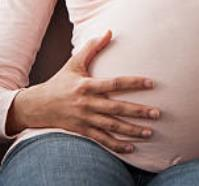down: (56, 28, 158, 153)
